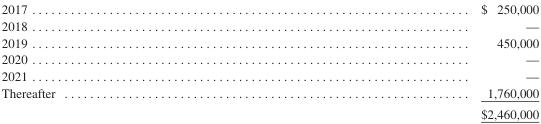table: (0, 1, 538, 120)
table column: (267, 1, 538, 120), (0, 1, 267, 120)
table row: (0, 84, 538, 103), (0, 33, 538, 50), (0, 50, 538, 67), (0, 67, 538, 84), (0, 103, 538, 120), (0, 1, 538, 17), (0, 17, 538, 33)
